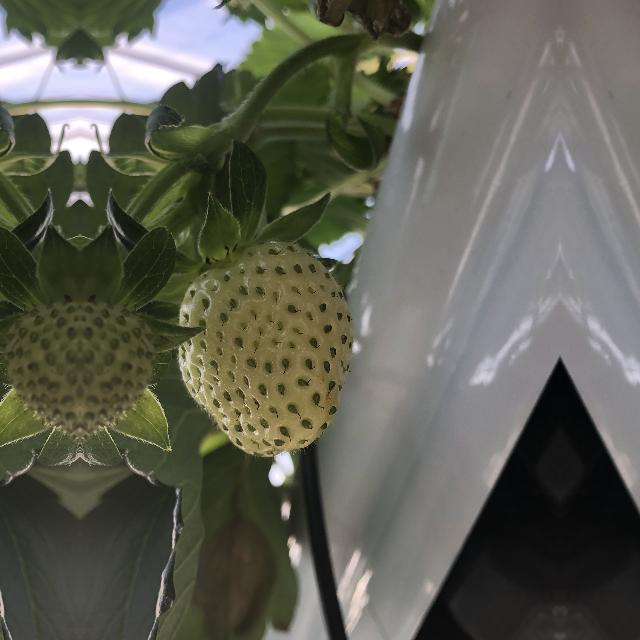Health_25: (176, 238, 357, 458), (5, 294, 80, 446), (80, 294, 154, 446)
